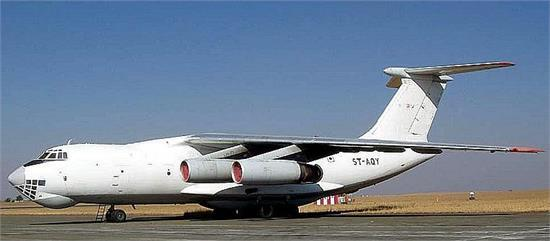airplane: (6, 60, 544, 229)
